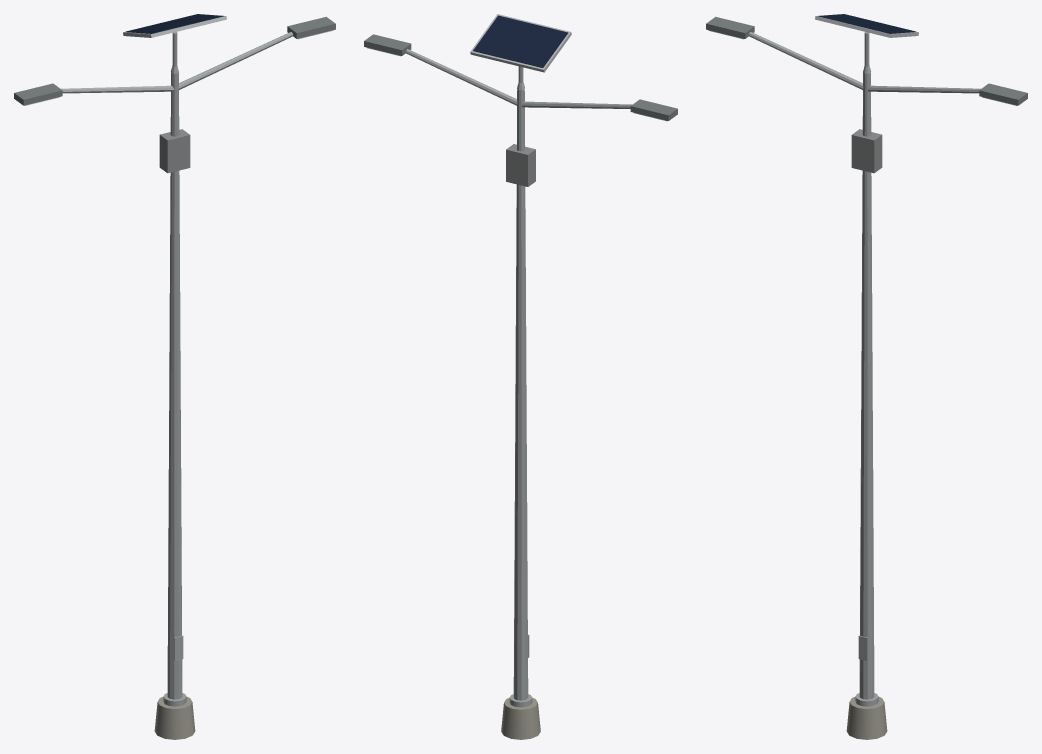
File: street_lamp_double_solar.glb
The picture shows the model from 3 angles, left to right: view 1: azimuth 30°, elevation 25°; view 2: azimuth 150°, elevation 25°; view 3: azimuth 330°, elevation 25°; orthographic projection. The views are drawn at different scales.
Parts seen in each view (by area): view 1: street_lamp_double_solar; view 2: street_lamp_double_solar; view 3: street_lamp_double_solar.
Boxes of the visible parts, box(x1,y1,x2,y2) form: street_lamp_double_solar: box(14, 14, 335, 739); street_lamp_double_solar: box(364, 14, 677, 739); street_lamp_double_solar: box(706, 14, 1027, 739).
Bounding box in the file's own units: 4.96 × 10.86 × 0.7876.
Materials: 2 (1 with a texture image).
